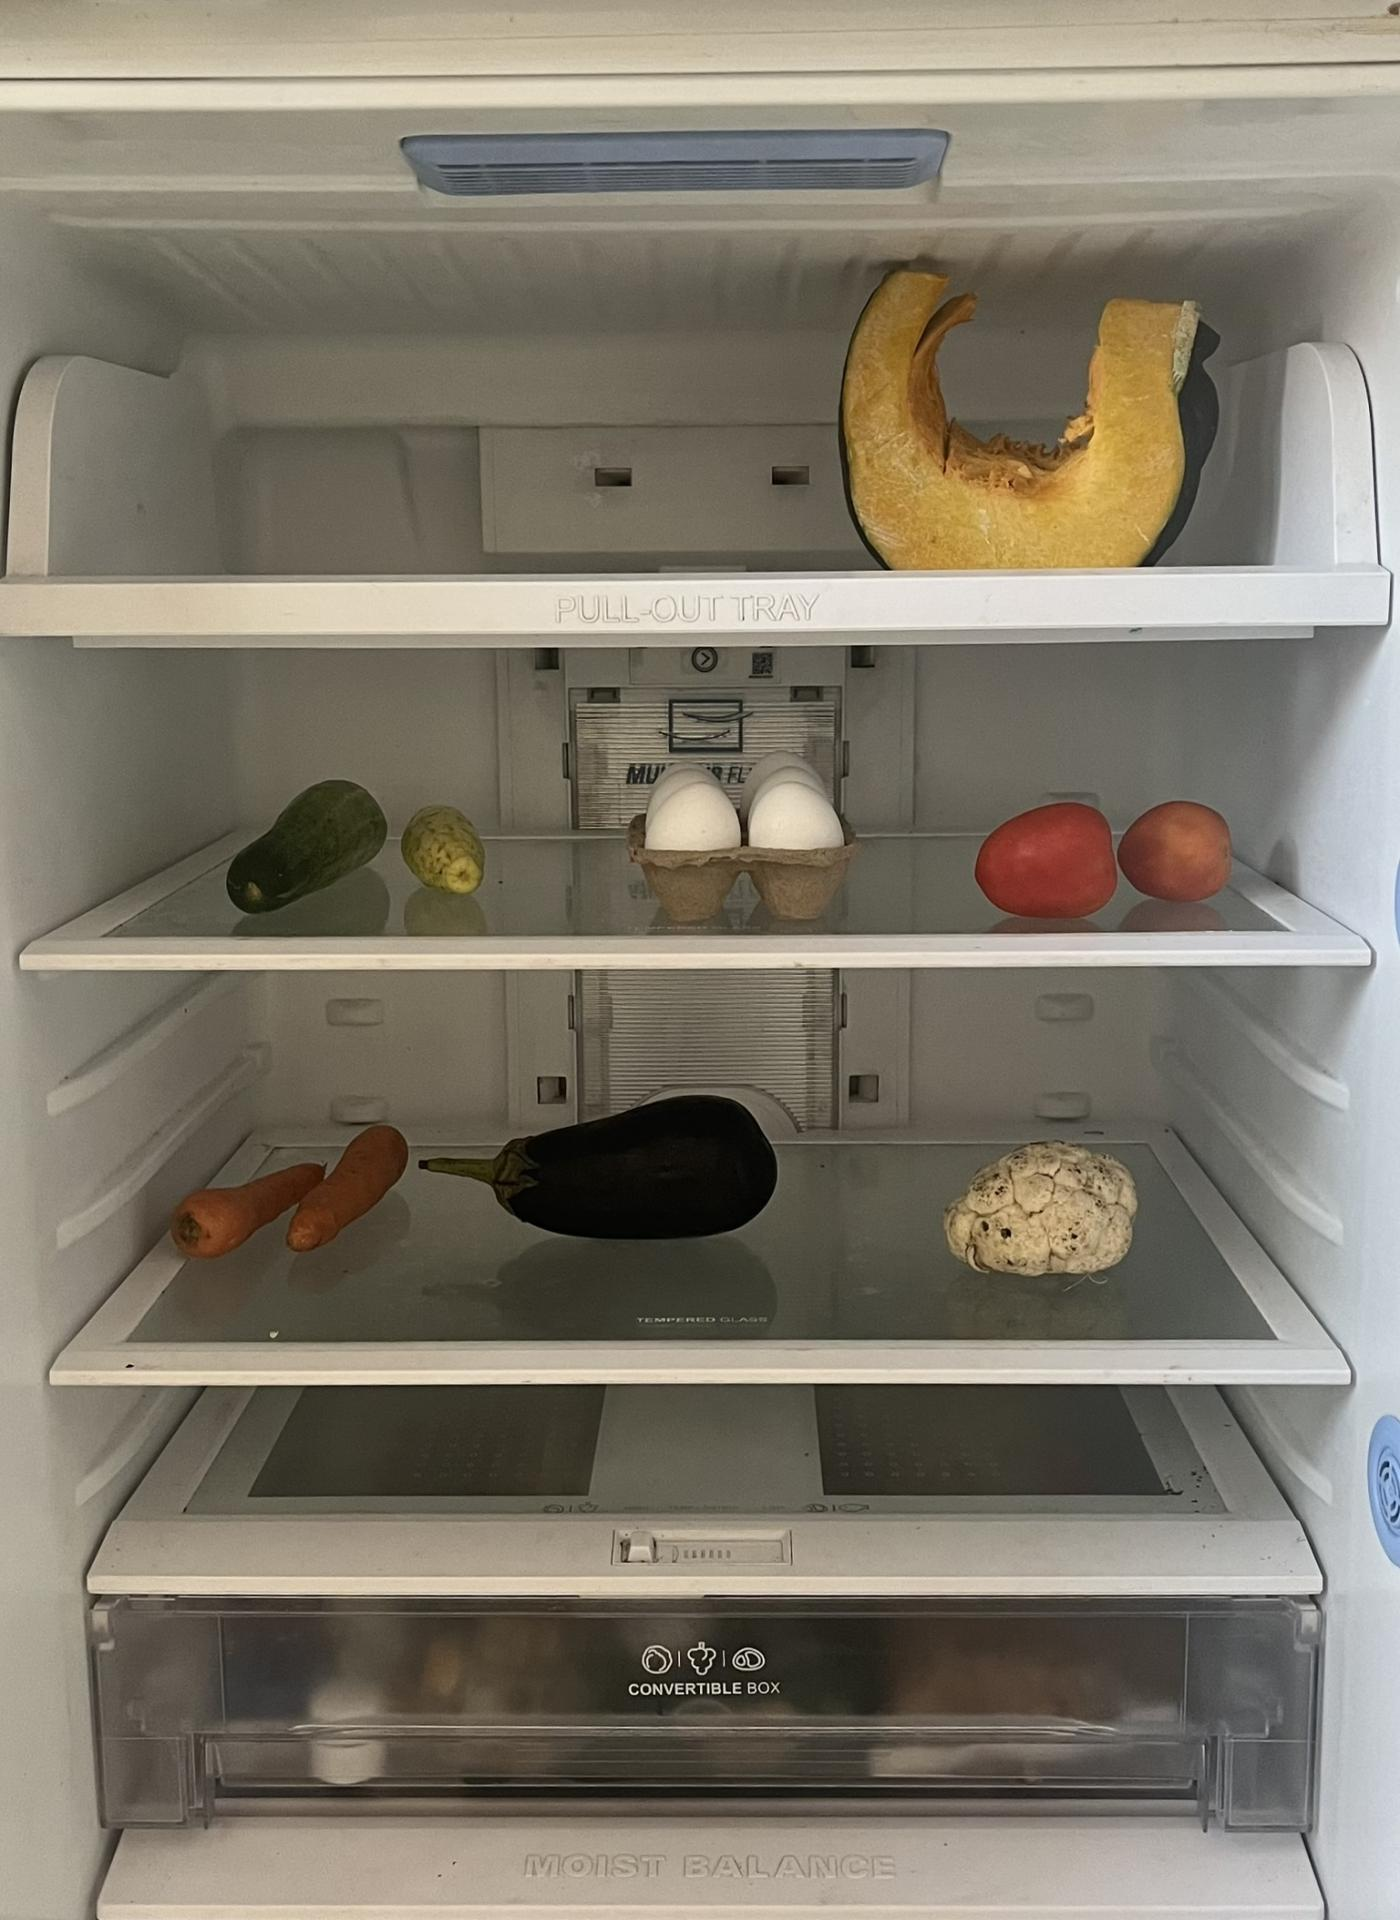brinjal: (429, 1099, 781, 1236)
carrots: (186, 1131, 412, 1255)
cauliflower: (939, 1139, 1139, 1276)
cucumber: (219, 774, 385, 915), (398, 808, 488, 905)
egg: (628, 777, 845, 929)
pumpkin: (838, 268, 1211, 571)
tomato: (974, 798, 1232, 912)
